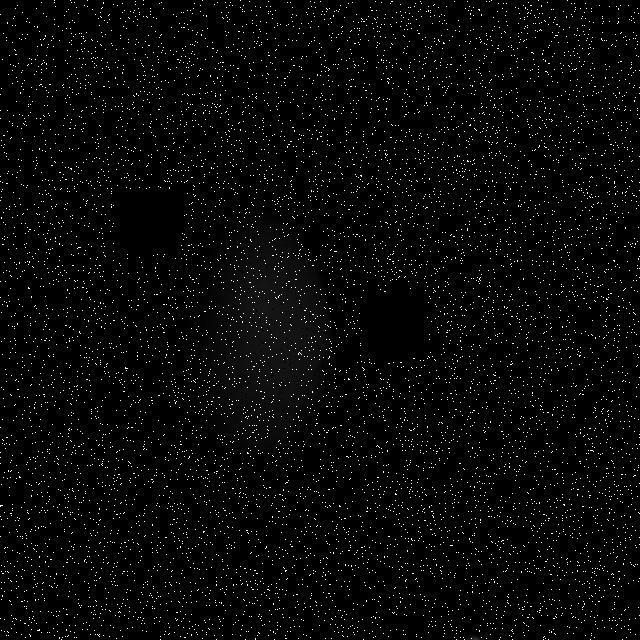egg: (155, 190, 337, 466)
